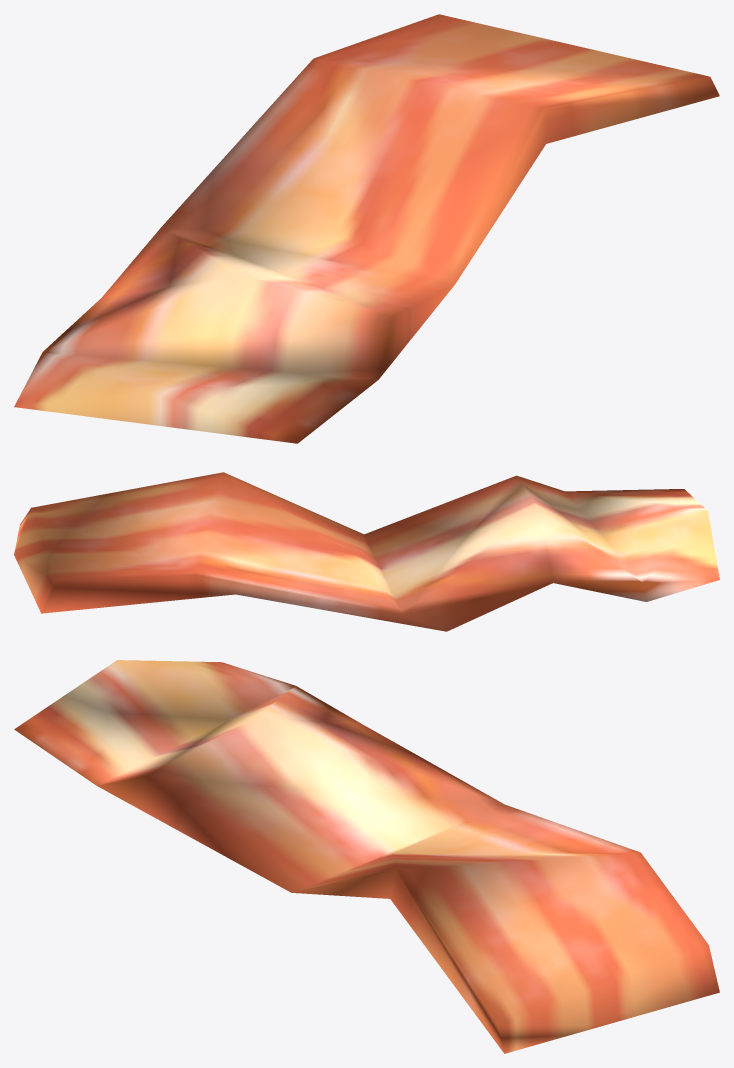
The model's file is 1958fcc3-db90-426c-8875-2010b2ce8ce6.glb.
3 views of the same model, one above another, from view 1: azimuth 30°, elevation 25°; view 2: azimuth 150°, elevation 25°; view 3: azimuth 270°, elevation 25° (orthographic). The views are drawn at different scales.
Visible parts, largest first — view 1: Bacon; view 2: Bacon; view 3: Bacon.
Boxes of the visible parts, bbox=[...] form: Bacon: bbox=[14, 14, 719, 443]; Bacon: bbox=[14, 472, 719, 631]; Bacon: bbox=[14, 660, 719, 1053].
Bounding box in the file's own units: 0.2146 × 0.0271 × 0.1691.
Materials: 1 (1 with a texture image).
